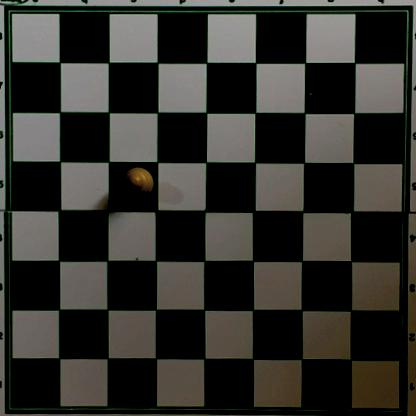white-pawn: (120, 165, 155, 204)
